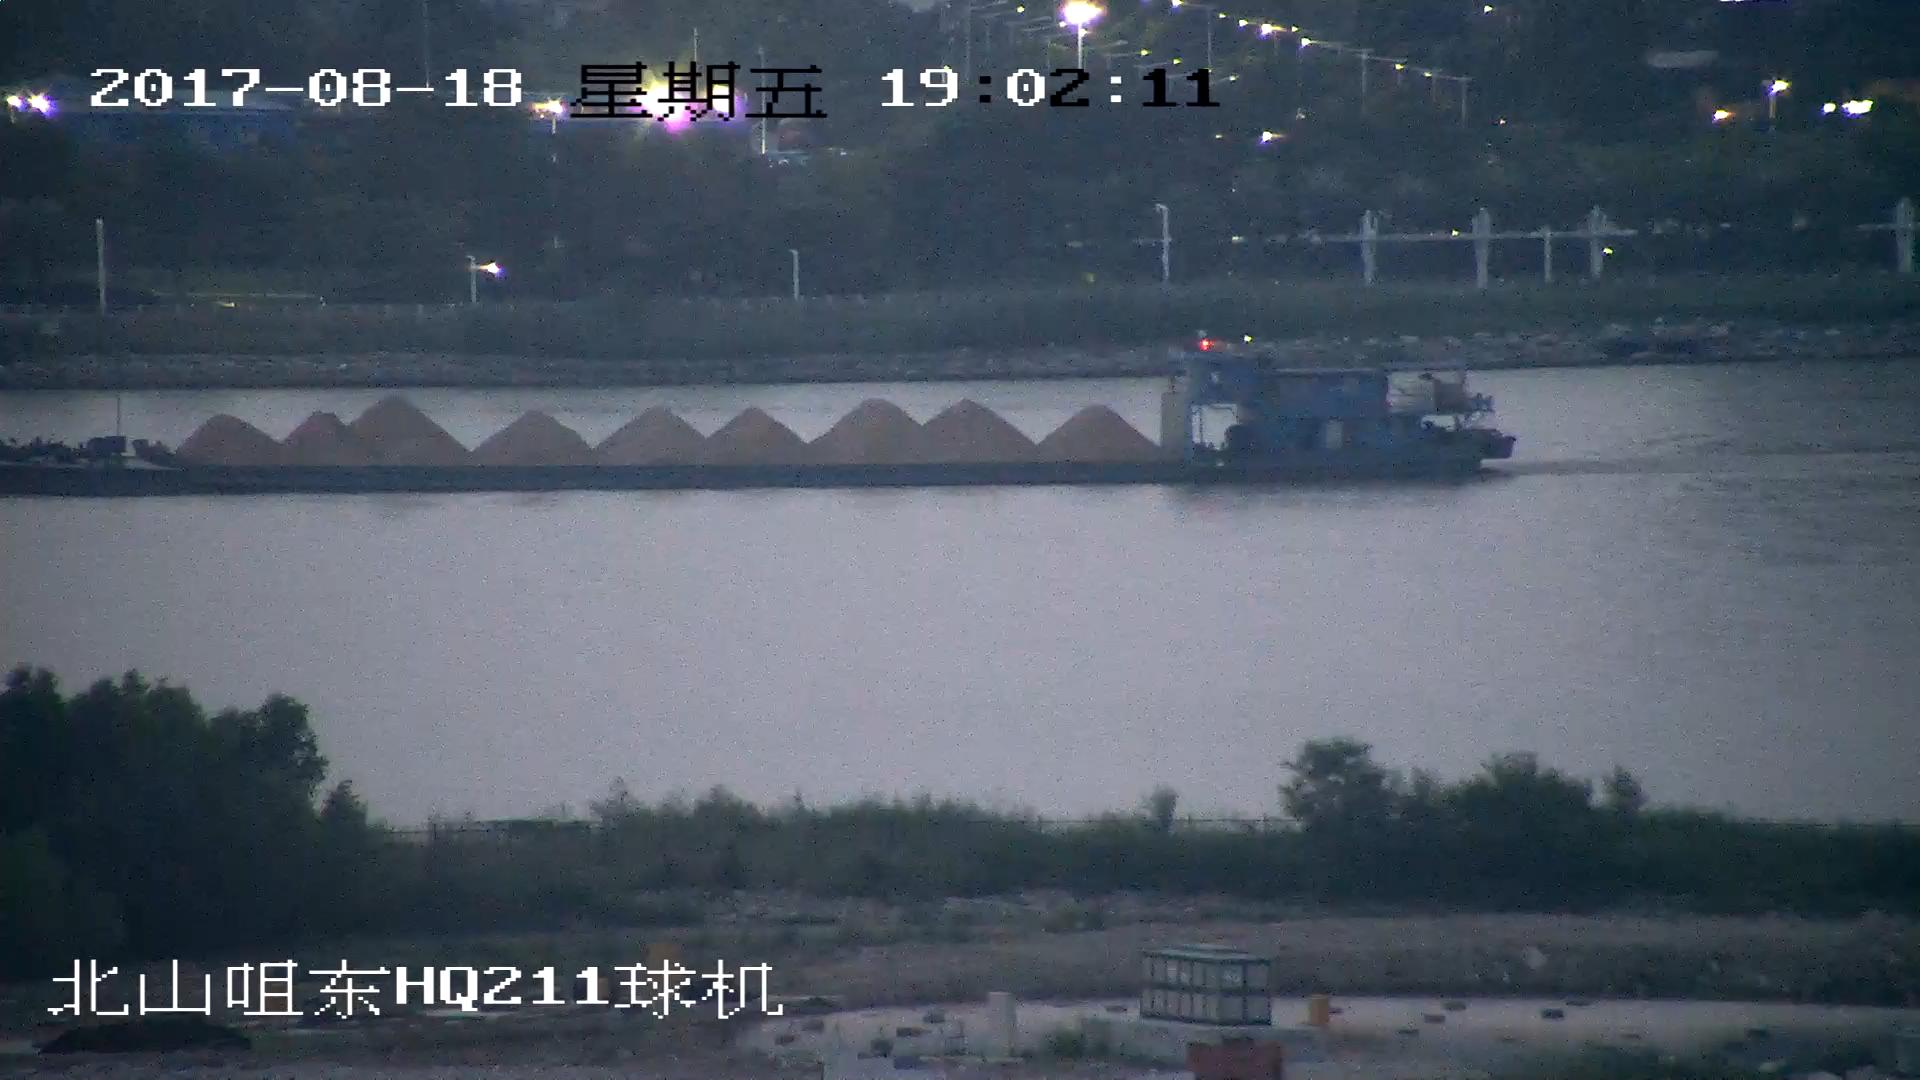ore carrier: (1, 333, 1521, 488)
